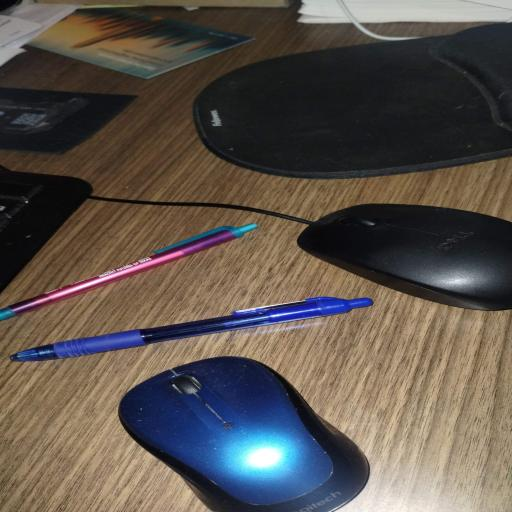mouse: (119, 357, 369, 511), (298, 204, 511, 310)
pen: (0, 224, 257, 320), (10, 297, 372, 361)
